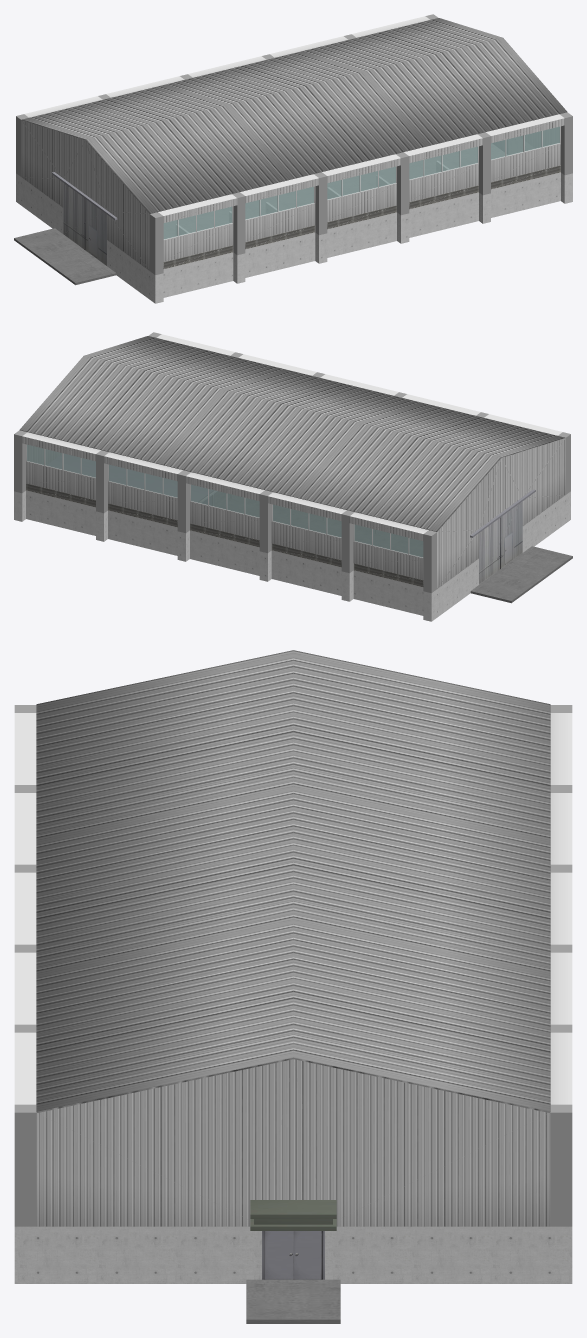
The model's file is 19-GC-OUT-waste-storage.glb.
3 views of the same model, one above another, from view 1: azimuth 30°, elevation 25°; view 2: azimuth 150°, elevation 25°; view 3: azimuth 270°, elevation 25° (orthographic). The views are drawn at different scales.
Parts seen in each view (by area): view 1: Shape002, waste-storage, Line1131, Rectangle764, Box759, Box761, Rectangle763; view 2: Shape002, waste-storage, Rectangle764, Line1131, Box759, Box761, Box764, Rectangle763; view 3: Shape002, waste-storage, Line1131, Box760, Box767.
Boxes of the visible parts, bbox=[...] form: Shape002: bbox=[21, 18, 567, 213]; waste-storage: bbox=[16, 14, 572, 303]; Line1131: bbox=[14, 143, 506, 285]; Rectangle764: bbox=[163, 126, 559, 239]; Box759: bbox=[163, 165, 560, 269]; Box761: bbox=[52, 172, 117, 265]; Rectangle763: bbox=[163, 126, 560, 240]; Shape002: bbox=[19, 336, 565, 531]; waste-storage: bbox=[14, 332, 570, 621]; Rectangle764: bbox=[27, 444, 423, 557]; Line1131: bbox=[215, 491, 572, 603]; Box759: bbox=[26, 483, 423, 587]; Box761: bbox=[470, 489, 535, 584]; Box764: bbox=[199, 491, 422, 556]; Rectangle763: bbox=[26, 444, 423, 558]; Shape002: bbox=[36, 650, 550, 1112]; waste-storage: bbox=[14, 705, 572, 1283]; Line1131: bbox=[246, 1279, 340, 1323]; Box760: bbox=[262, 1231, 324, 1279]; Box767: bbox=[250, 1200, 336, 1230].
Bounding box in the file's own units: 36.6 × 7.92 × 17.7.
Materials: 16 (15 with a texture image).
